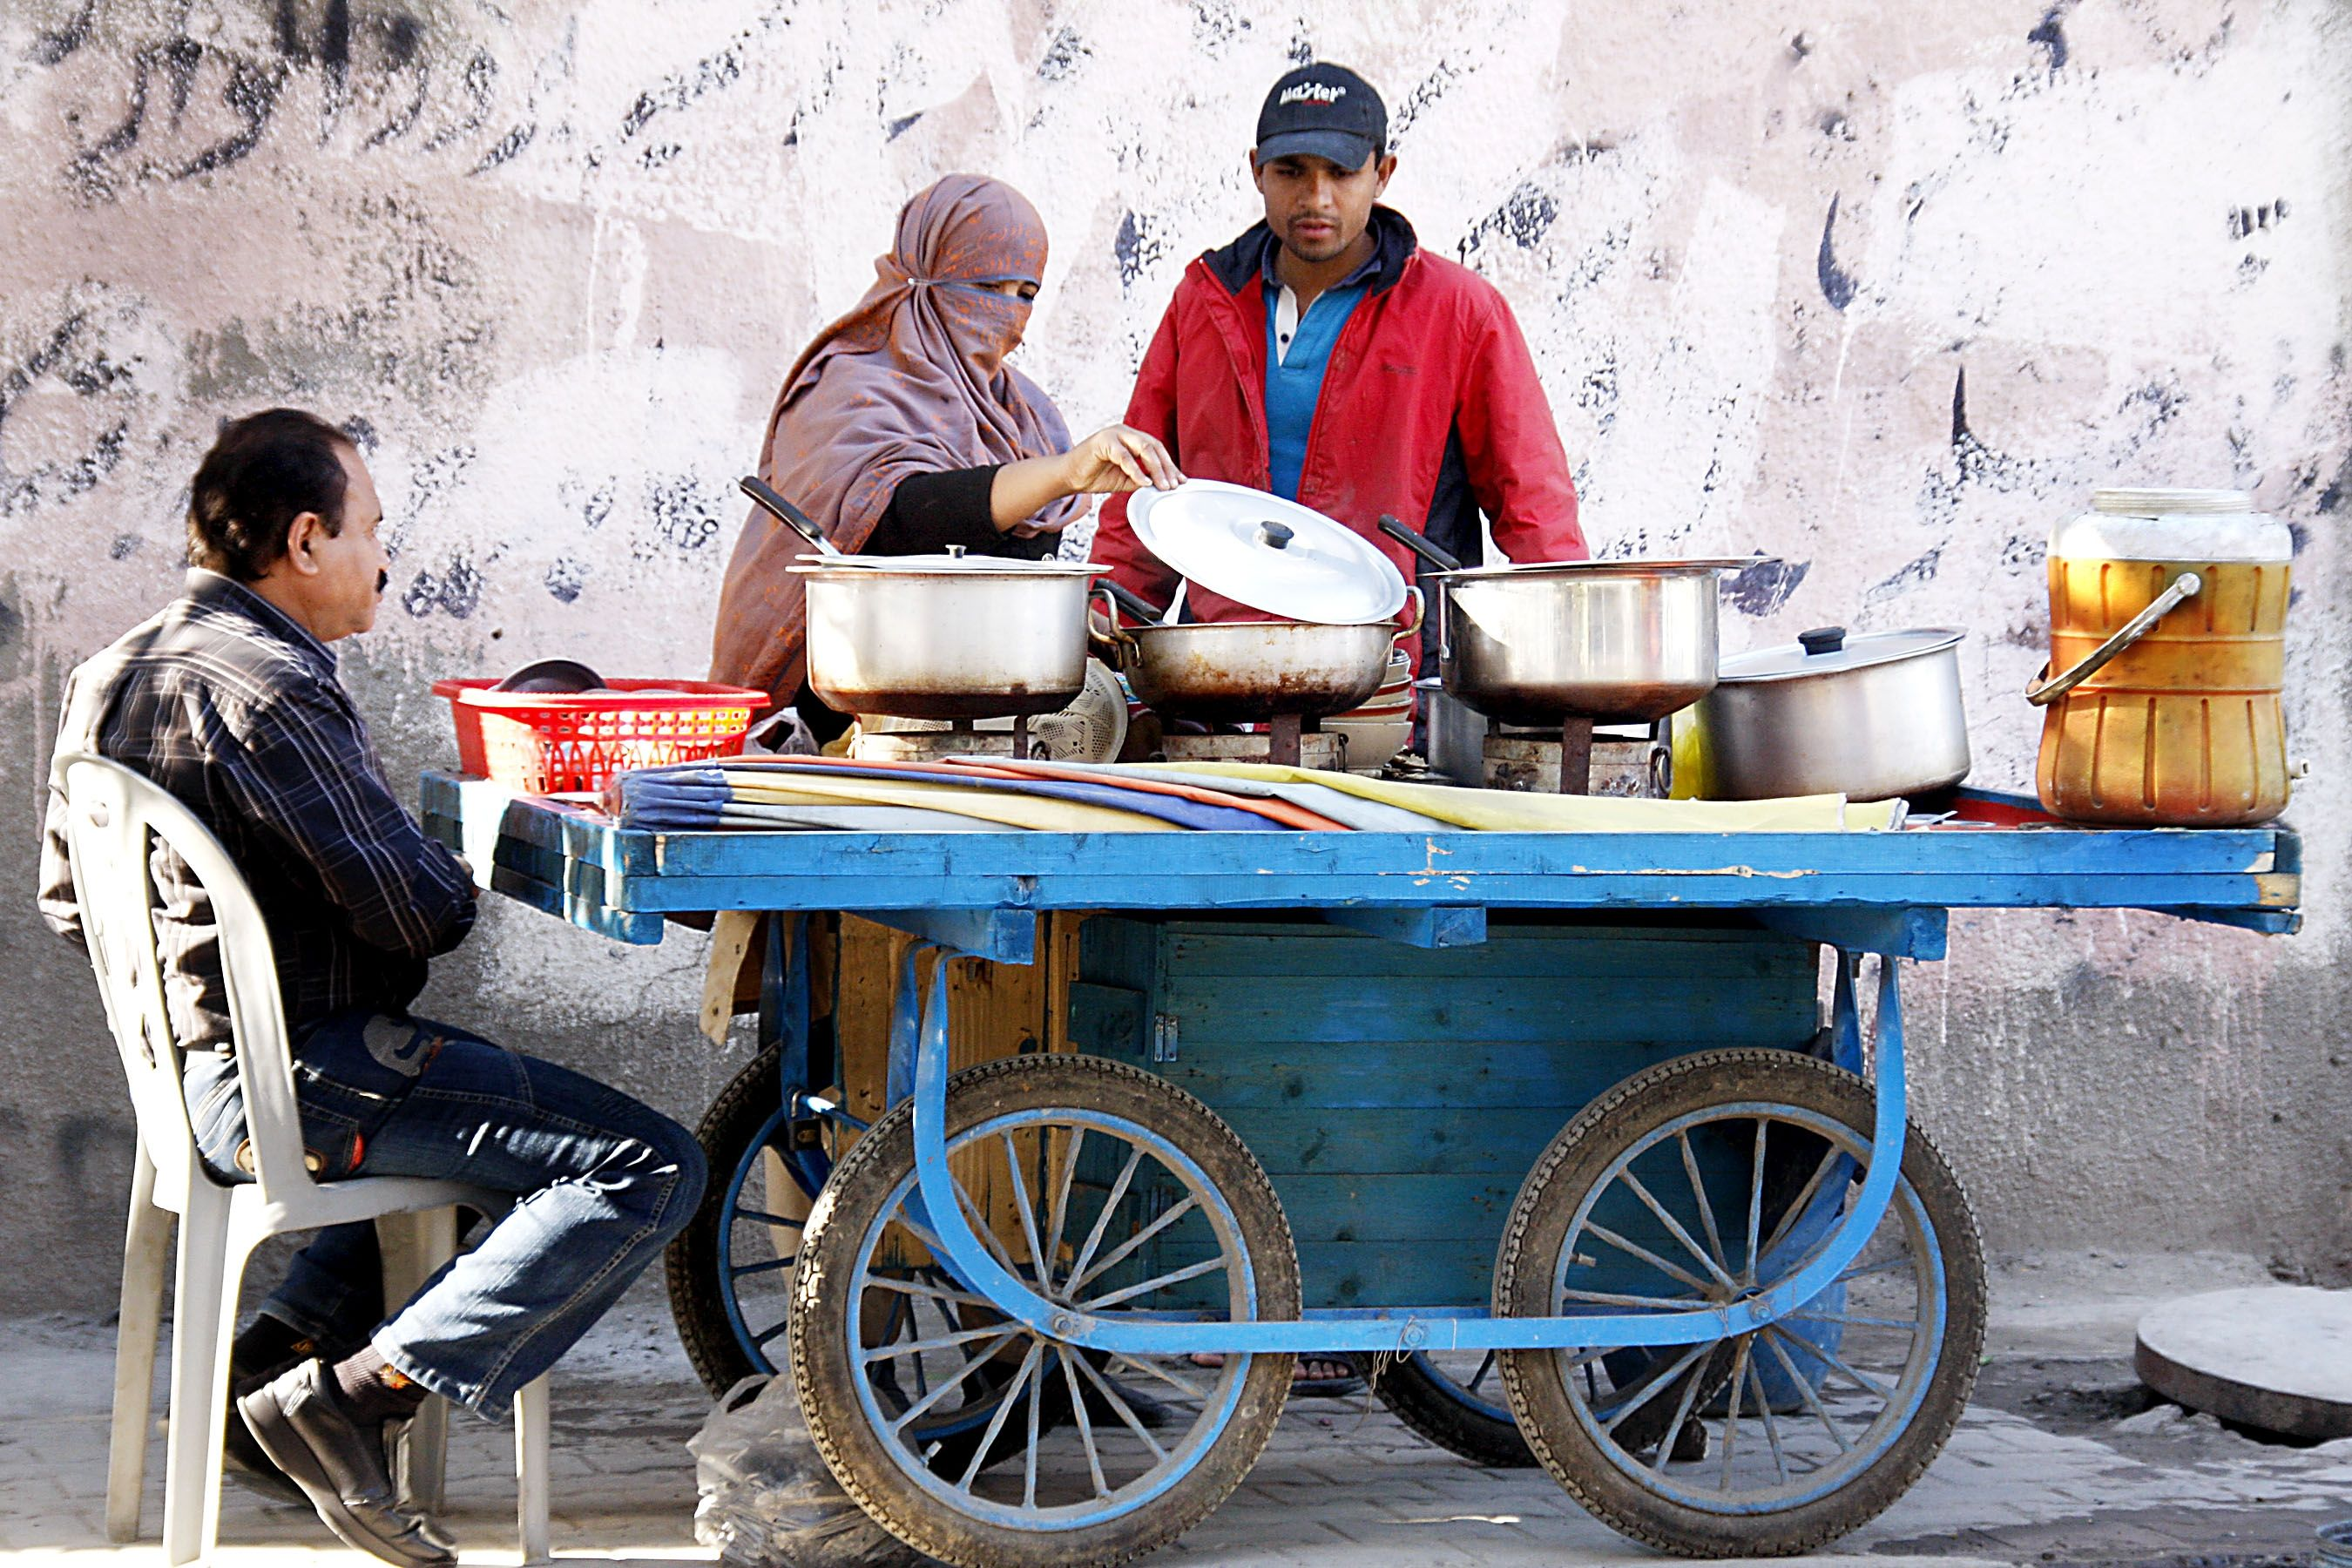cart: (699, 731, 2313, 1539)
person: (123, 405, 692, 1551), (1085, 53, 1595, 631), (714, 176, 1166, 621)
